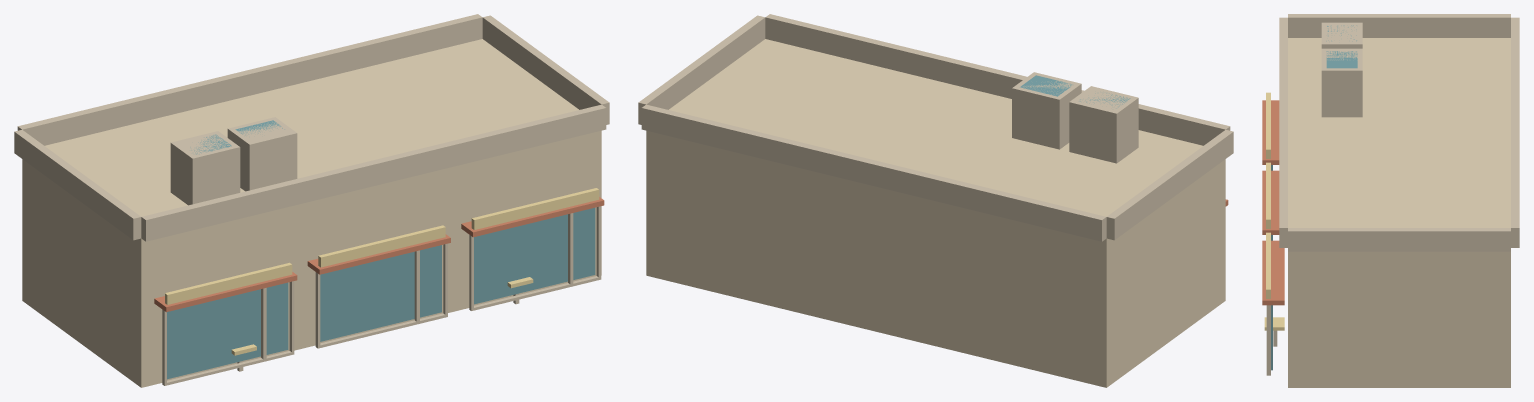
The model's file is commercial_2x1_a.glb.
3 renders of one model, left to right at view 1: azimuth 30°, elevation 25°; view 2: azimuth 150°, elevation 25°; view 3: azimuth 270°, elevation 25°, orthographic. The views are drawn at different scales.
Visible parts, largest first — view 1: commercial_2x1_a_0; view 2: commercial_2x1_a_0; view 3: commercial_2x1_a_0.
Part boxes in pixels (left/top/right/bottom): commercial_2x1_a_0: left=14, top=14, right=609, bottom=387; commercial_2x1_a_0: left=638, top=14, right=1233, bottom=387; commercial_2x1_a_0: left=1262, top=14, right=1519, bottom=387.
Size of the model in its own units: 15 by 6 by 7.5.
